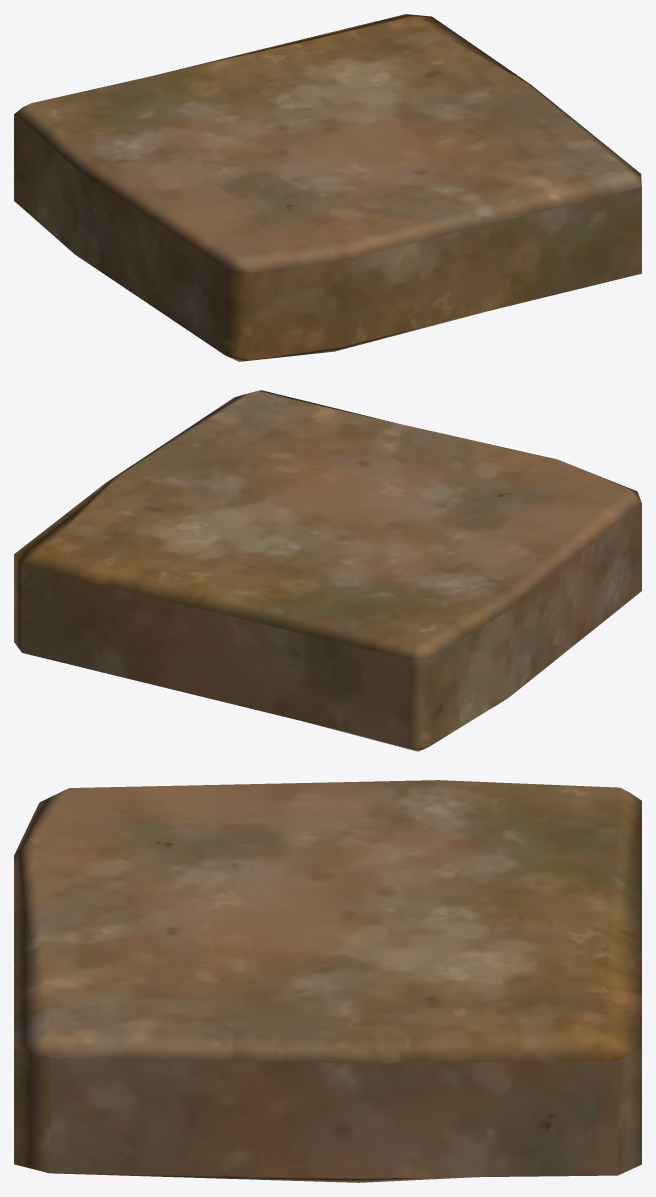
The picture shows the model from 3 angles, top to bottom: view 1: azimuth 30°, elevation 25°; view 2: azimuth 150°, elevation 25°; view 3: azimuth 270°, elevation 25°; orthographic projection. The views are drawn at different scales.
Visible parts, largest first — view 1: SM_AgilityPlatform_1x1_LOD0; view 2: SM_AgilityPlatform_1x1_LOD0; view 3: SM_AgilityPlatform_1x1_LOD0.
Boxes of the visible parts, x1,y1,x2,y2 form: SM_AgilityPlatform_1x1_LOD0: [14, 14, 641, 361]; SM_AgilityPlatform_1x1_LOD0: [14, 390, 641, 751]; SM_AgilityPlatform_1x1_LOD0: [14, 780, 641, 1182].
Size of the model in its own units: 1.04 by 0.25 by 1.
Materials: 1 (1 with a texture image).
